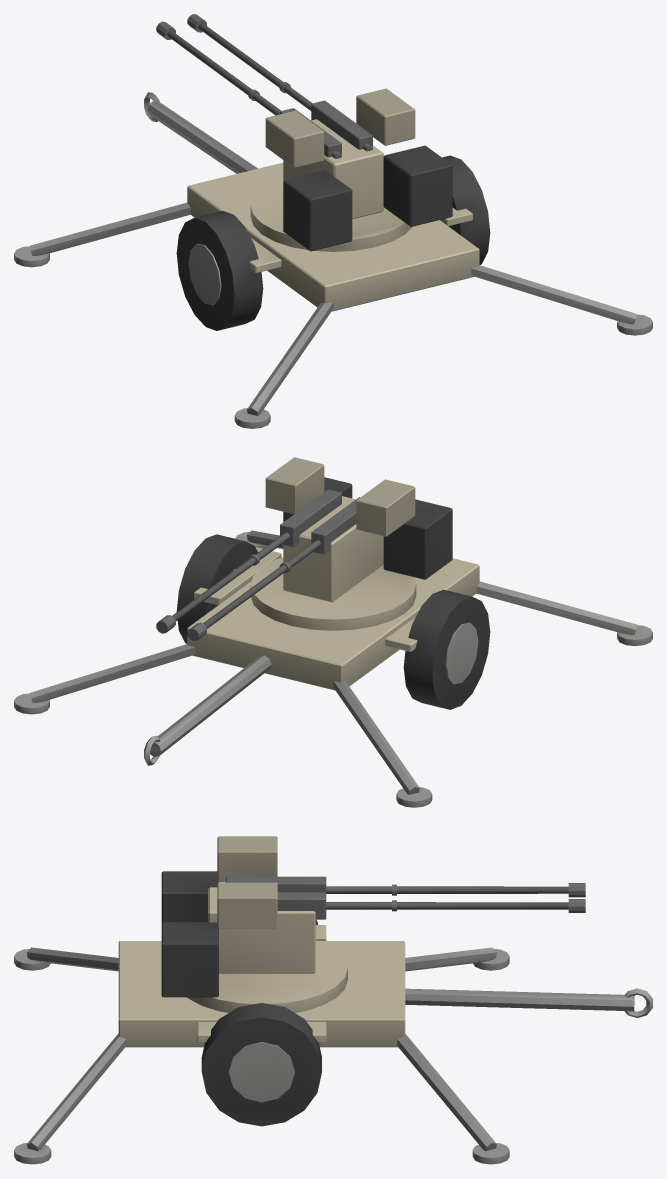
The model's file is aagun_rus.glb.
3 renders of one model, top to bottom at view 1: azimuth 30°, elevation 25°; view 2: azimuth 150°, elevation 25°; view 3: azimuth 270°, elevation 25°, orthographic. The views are drawn at different scales.
Parts seen in each view (by area): view 1: body, turret, barrel; view 2: body, turret, barrel; view 3: body, turret, barrel.
Boxes of the visible parts, x1,y1,x2,y2 form: body: (14, 92, 652, 428); turret: (250, 119, 452, 251); barrel: (156, 14, 415, 167); body: (14, 530, 652, 807); turret: (250, 477, 452, 630); barrel: (156, 457, 415, 641); body: (14, 920, 652, 1164); turret: (161, 871, 347, 1012); barrel: (217, 836, 585, 928).
Bounding box in the file's own units: 3.46 × 1.5 × 4.46.
